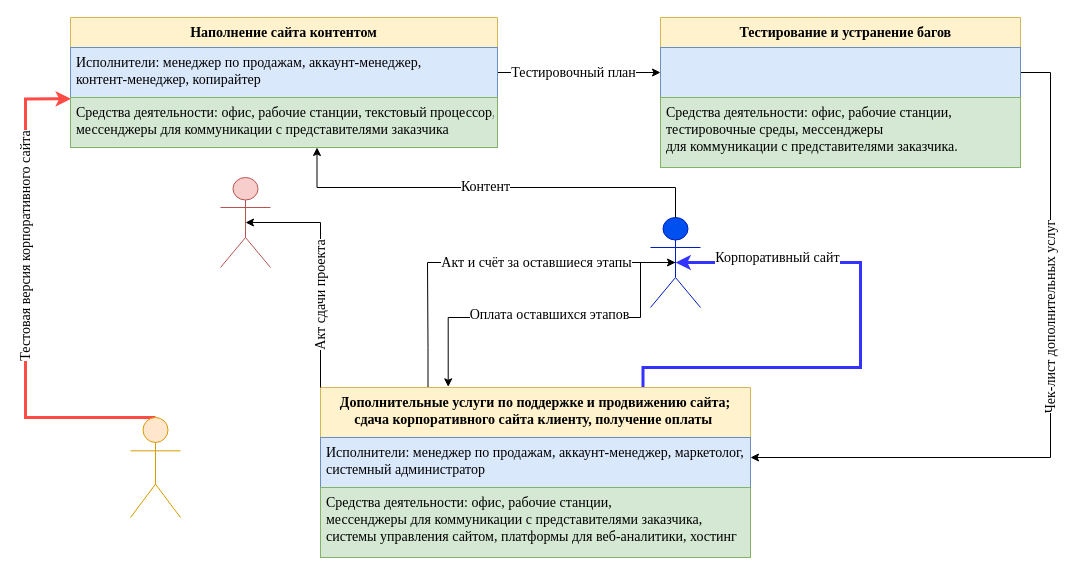
Image size: 1077x578. Some labels were removed from this diagram. The shapes that lost their labels are listed below. From the top down, each one's centre as x and y in pixels, then its label:
At pixel 840 72: "Исполнители:менеджер по продажам, аккаунт-менеджер, тестировщик, веб-разработчик".
At pixel 245 222: "Руководитель web-студии".
At pixel 675 262: "Заказчик".
At pixel 155 467: "Контент-менеджер".
